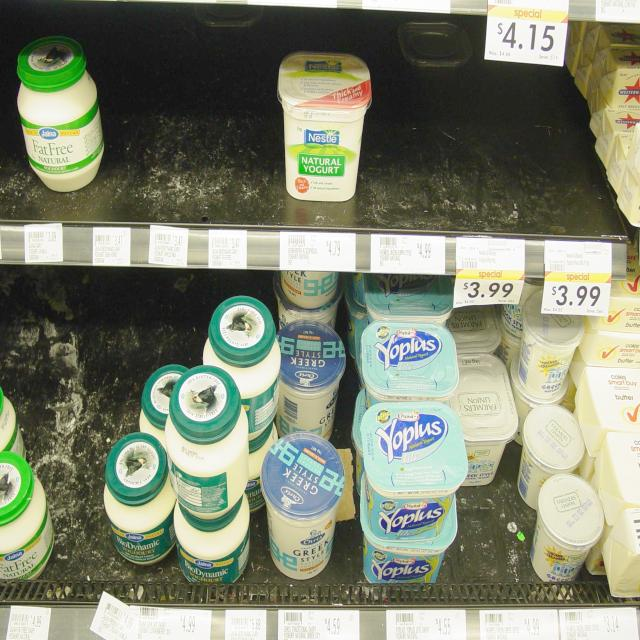empty_space: (388, 53, 582, 211), (115, 35, 269, 189), (20, 293, 116, 427), (136, 288, 198, 348), (464, 508, 512, 576)
